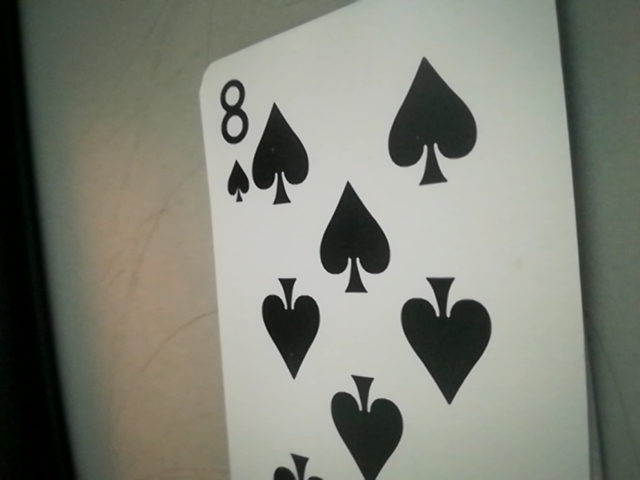ht 8: (205, 69, 279, 210)
